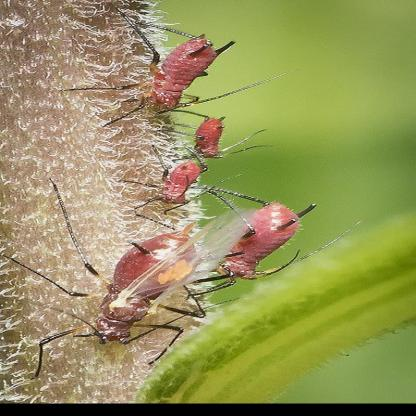aphid: (22, 211, 250, 373), (63, 13, 246, 128), (188, 178, 338, 309), (126, 154, 238, 212), (185, 107, 281, 165)
